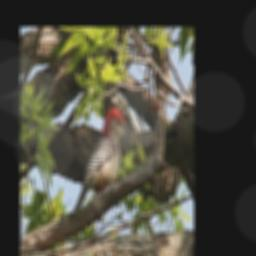Woodpecker: (68, 104, 134, 216)
